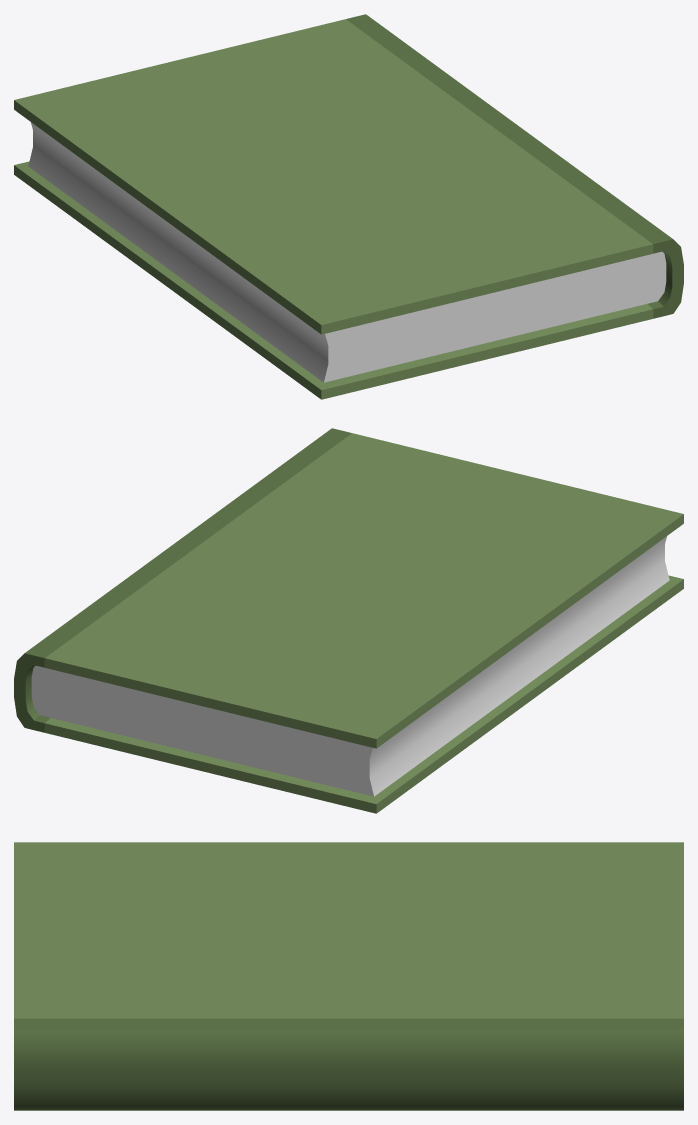
The model's file is Book_01.fbx.
3 views of the same model, one above another, from view 1: azimuth 30°, elevation 25°; view 2: azimuth 150°, elevation 25°; view 3: azimuth 270°, elevation 25° (orthographic). The views are drawn at different scales.
Parts seen in each view (by area): view 1: Book_01; view 2: Book_01; view 3: Book_01.
Boxes of the visible parts, box(x1,y1,x2,y2) form: Book_01: box(14, 14, 683, 399); Book_01: box(14, 428, 683, 813); Book_01: box(14, 842, 683, 1110).
Size of the model in its own units: 0.1611 by 0.0317 by 0.2367.
